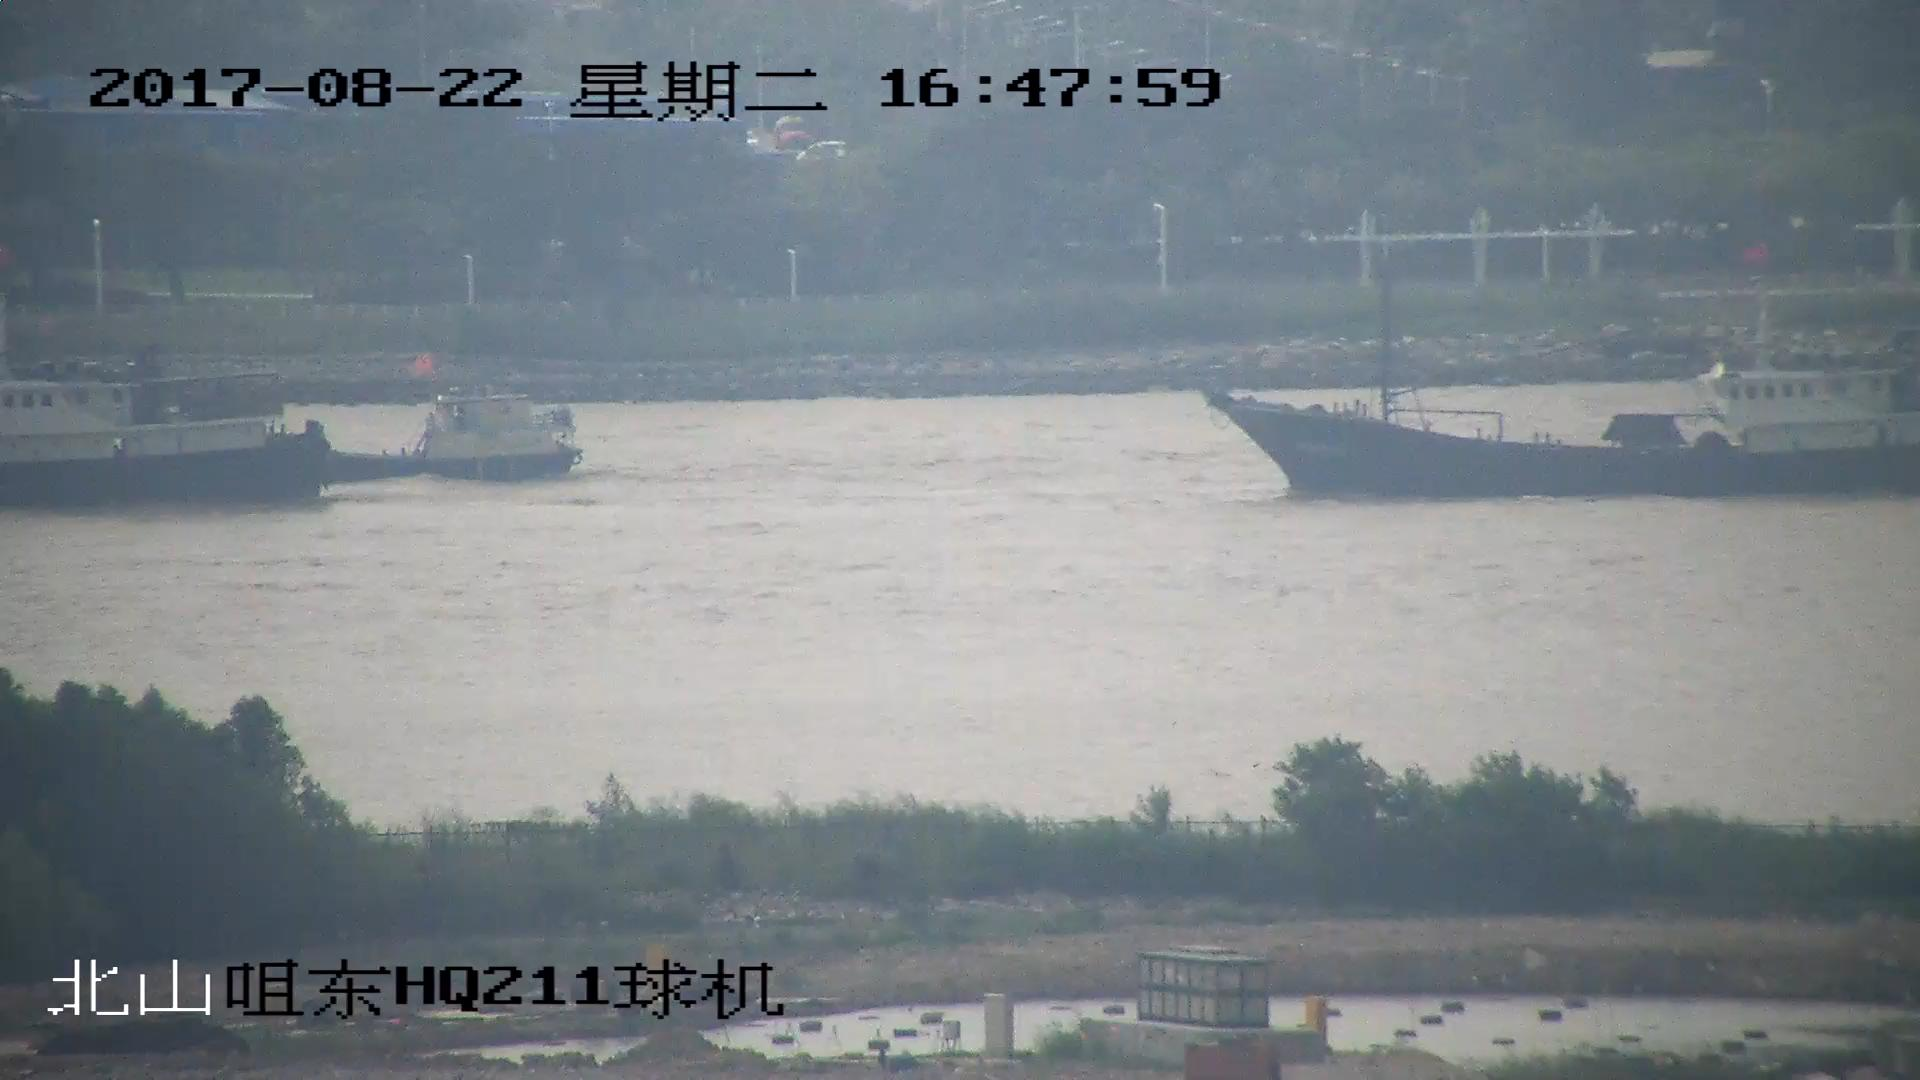fishing boat: (1225, 225, 1920, 501), (1, 365, 312, 504), (246, 363, 591, 480)
